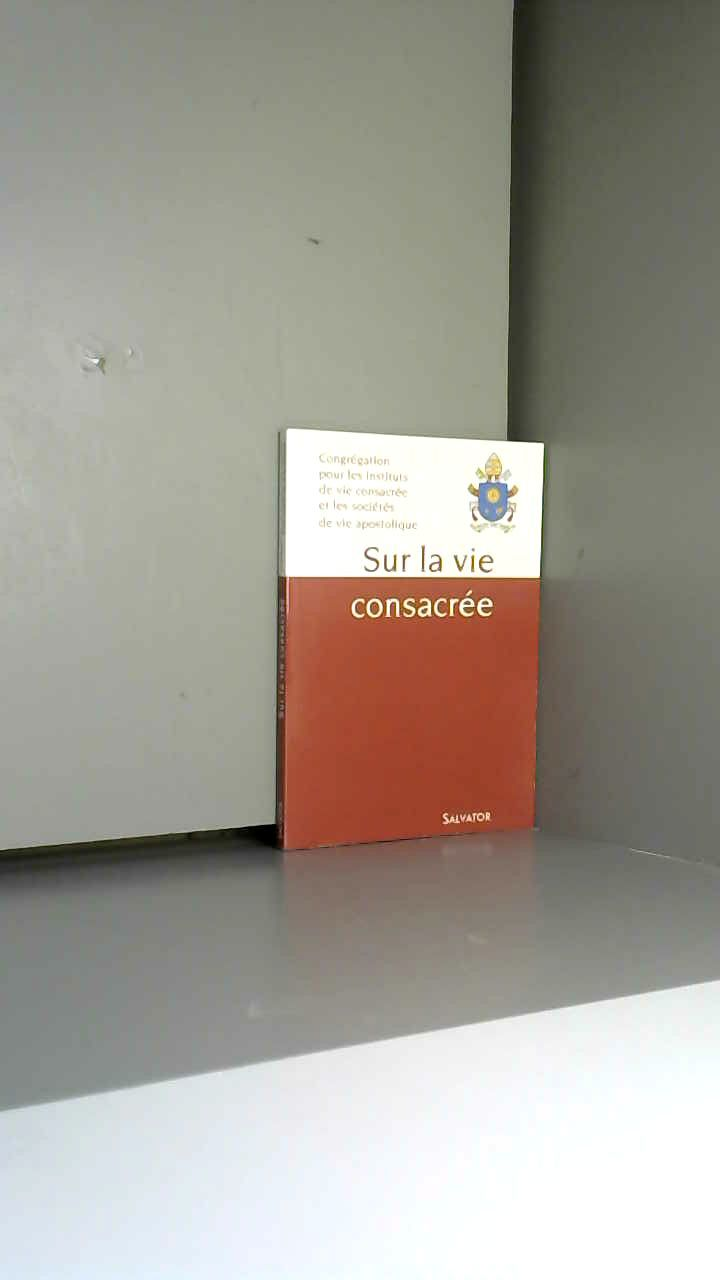book: (240, 400, 584, 887)
